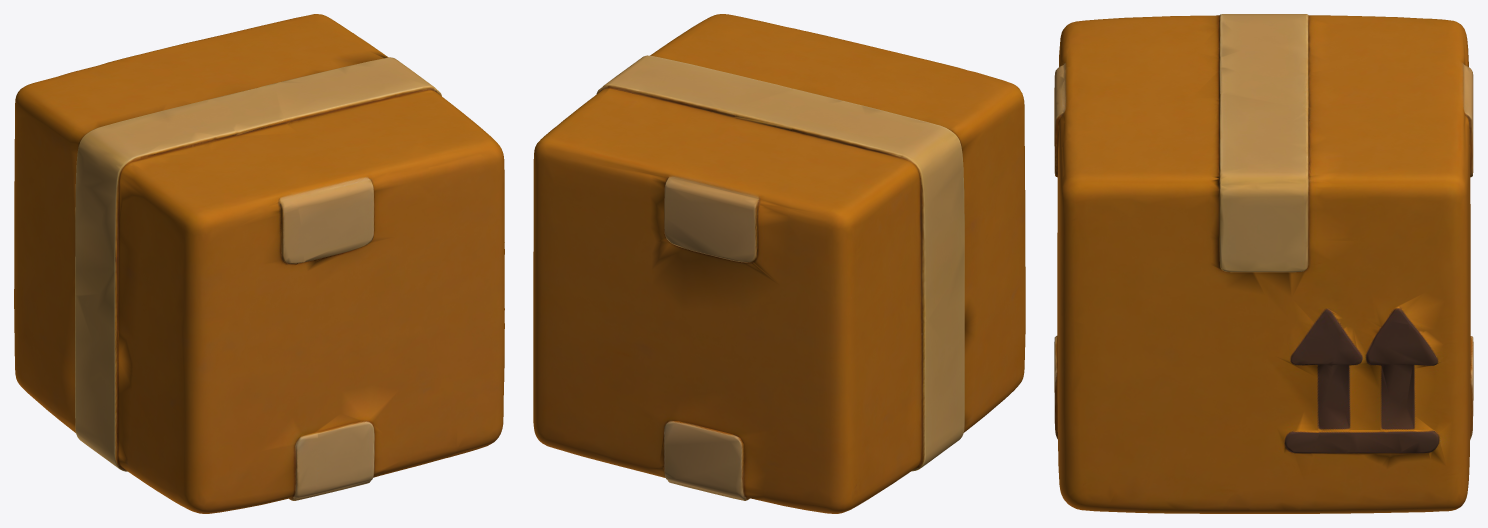
The model's file is box_large.glb.
3 views of the same model, side by side, from view 1: azimuth 30°, elevation 25°; view 2: azimuth 150°, elevation 25°; view 3: azimuth 270°, elevation 25° (orthographic). The views are drawn at different scales.
Parts seen in each view (by area): view 1: tripo_node_95c4ee82-a048-4020-9b0e-ec55e89fd10c; view 2: tripo_node_95c4ee82-a048-4020-9b0e-ec55e89fd10c; view 3: tripo_node_95c4ee82-a048-4020-9b0e-ec55e89fd10c.
Boxes of the visible parts, x1,y1,x2,y2 form: tripo_node_95c4ee82-a048-4020-9b0e-ec55e89fd10c: (14, 14, 504, 513); tripo_node_95c4ee82-a048-4020-9b0e-ec55e89fd10c: (533, 14, 1025, 513); tripo_node_95c4ee82-a048-4020-9b0e-ec55e89fd10c: (1054, 14, 1473, 513).
Bounding box in the file's own units: 0.9947 × 0.9182 × 0.9997.
Materials: 1 (1 with a texture image).
